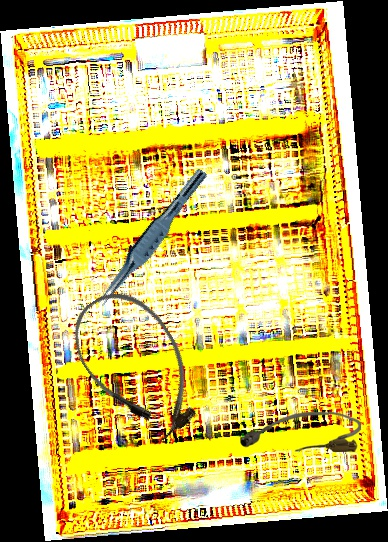Cannula: (57, 275, 217, 455), (239, 410, 362, 455)
Tissue Forceps: (93, 162, 209, 313)
